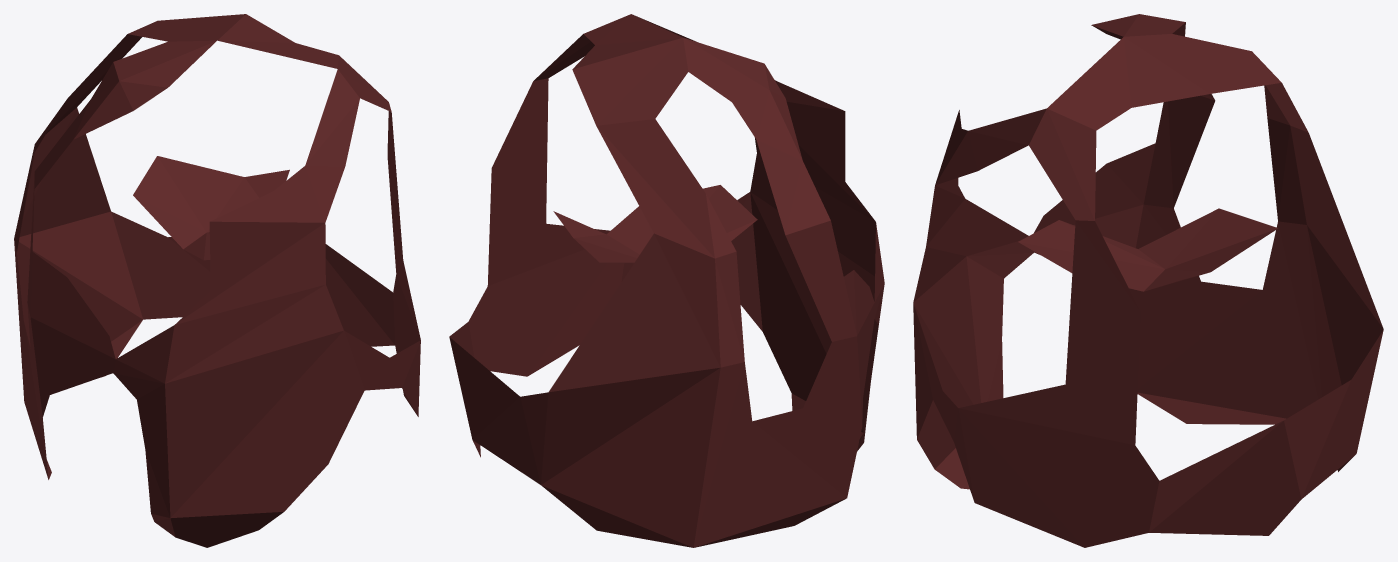
Rendered from Stone_Yellow_A_01_Light_02.FBX.
The picture shows the model from 3 angles, left to right: view 1: azimuth 30°, elevation 25°; view 2: azimuth 150°, elevation 25°; view 3: azimuth 270°, elevation 25°; orthographic projection. The views are drawn at different scales.
Parts seen in each view (by area): view 1: Stone_Yellow_A_01_Light_02; view 2: Stone_Yellow_A_01_Light_02; view 3: Stone_Yellow_A_01_Light_02.
Boxes of the visible parts, <box> form: Stone_Yellow_A_01_Light_02: <box>14,14,420,547</box>; Stone_Yellow_A_01_Light_02: <box>449,14,884,547</box>; Stone_Yellow_A_01_Light_02: <box>913,14,1383,547</box>.
Size of the model in its own units: 2.15 by 2.49 by 2.15.
